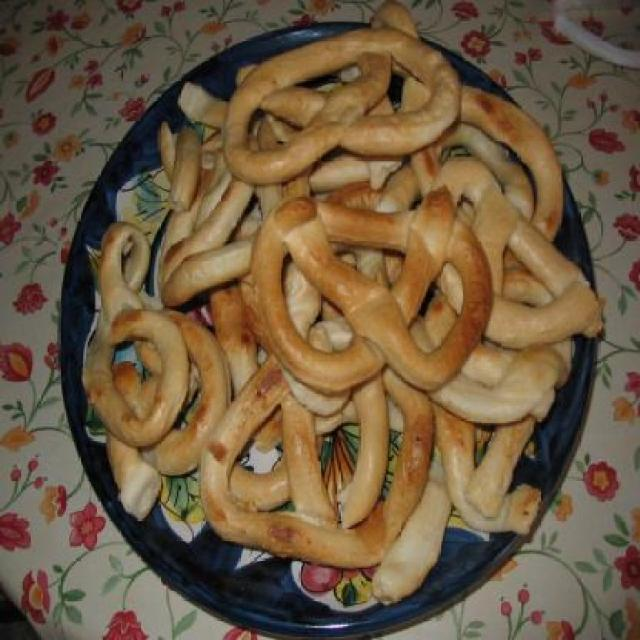Taralli: (85, 24, 612, 598)
